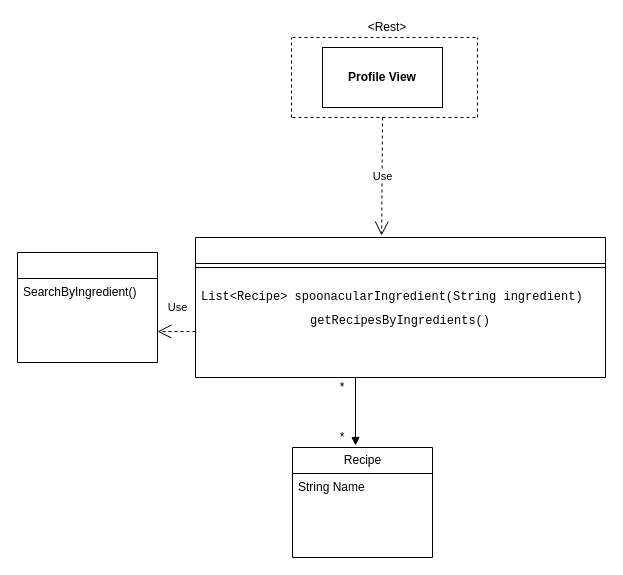
Some shapes in this 623 by 575 pixel diagram are drawn without their labels. Here are the shapes that lost their labels. From the top down, the box of each, then its label:
(16, 252, 158, 362): Spoonacular API
(194, 236, 606, 378): Ingredient Controller
